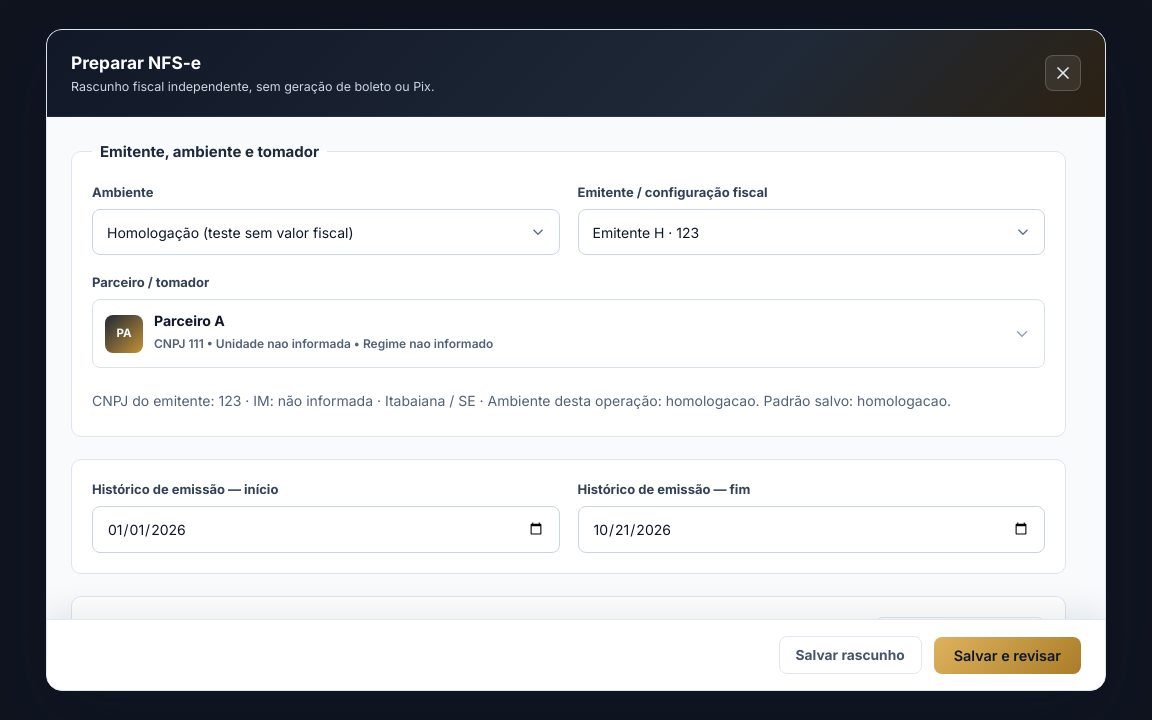
Test: Preparação NFS-e independente › retoma o rascunho vinculado do outro ambiente sem reutilizar ou duplicar sua identidade
The width and height of the screenshot is (1152, 720).
Select "Produção (somente preparação)" in the dropdown labelled "Ambiente" at (326, 232), box [92,209,560,255]
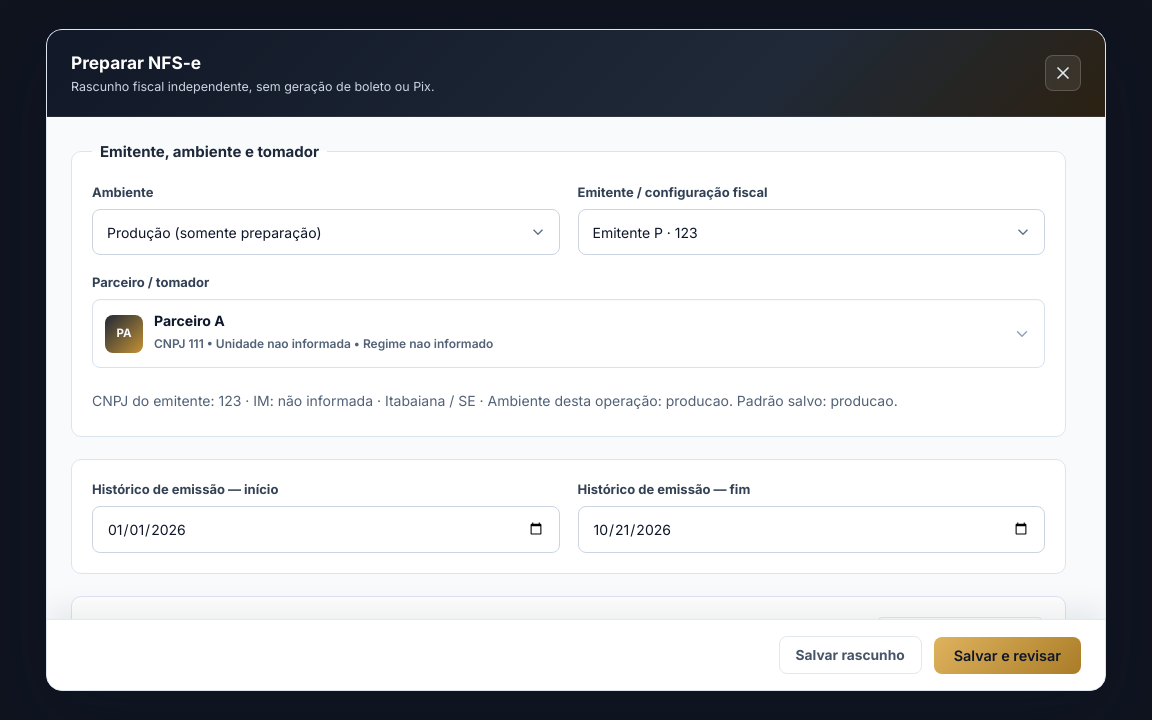
expect the dropdown named "Parceiro / tomador" is disabled: met, box [154,309,1001,331]
Click the button "Salvar rascunho" at (850, 655), box [779,636,922,674]
(page scrolled)
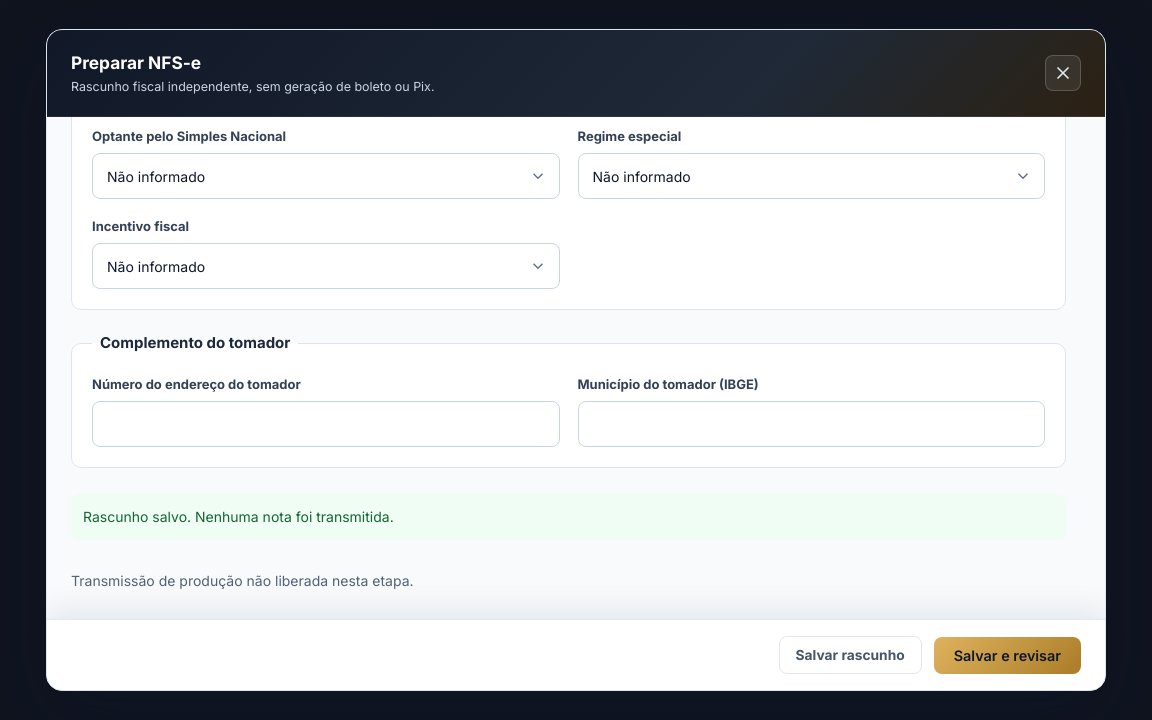
expect the text "Rascunho salvo. Nenhuma nota foi transmitida." is shown: met, box [71,494,1066,540]
